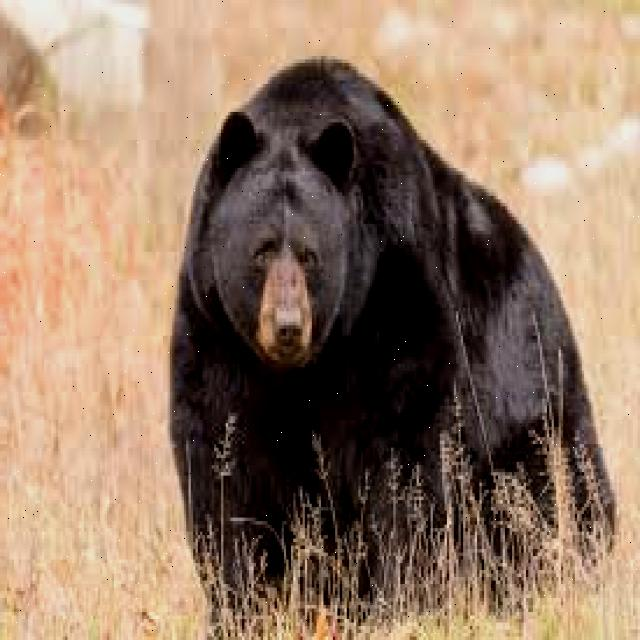bear: (232, 57, 596, 555)
